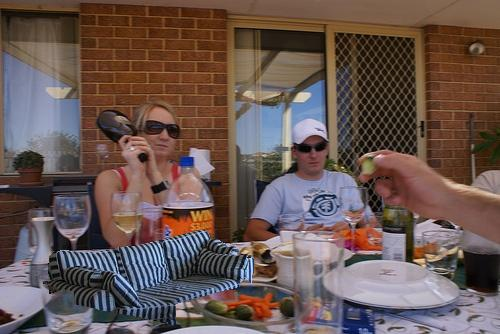tampered: (44, 231, 254, 325)
